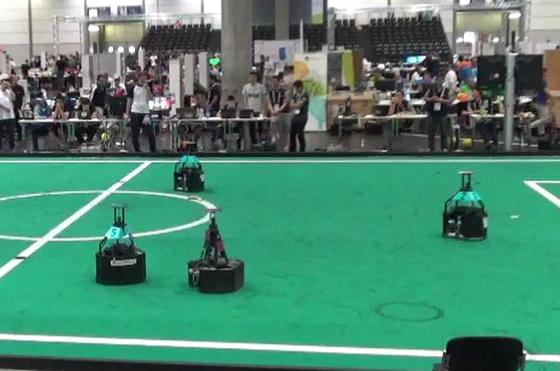robot: (183, 205, 247, 293), (90, 200, 149, 286), (437, 164, 494, 245), (169, 139, 205, 194)
